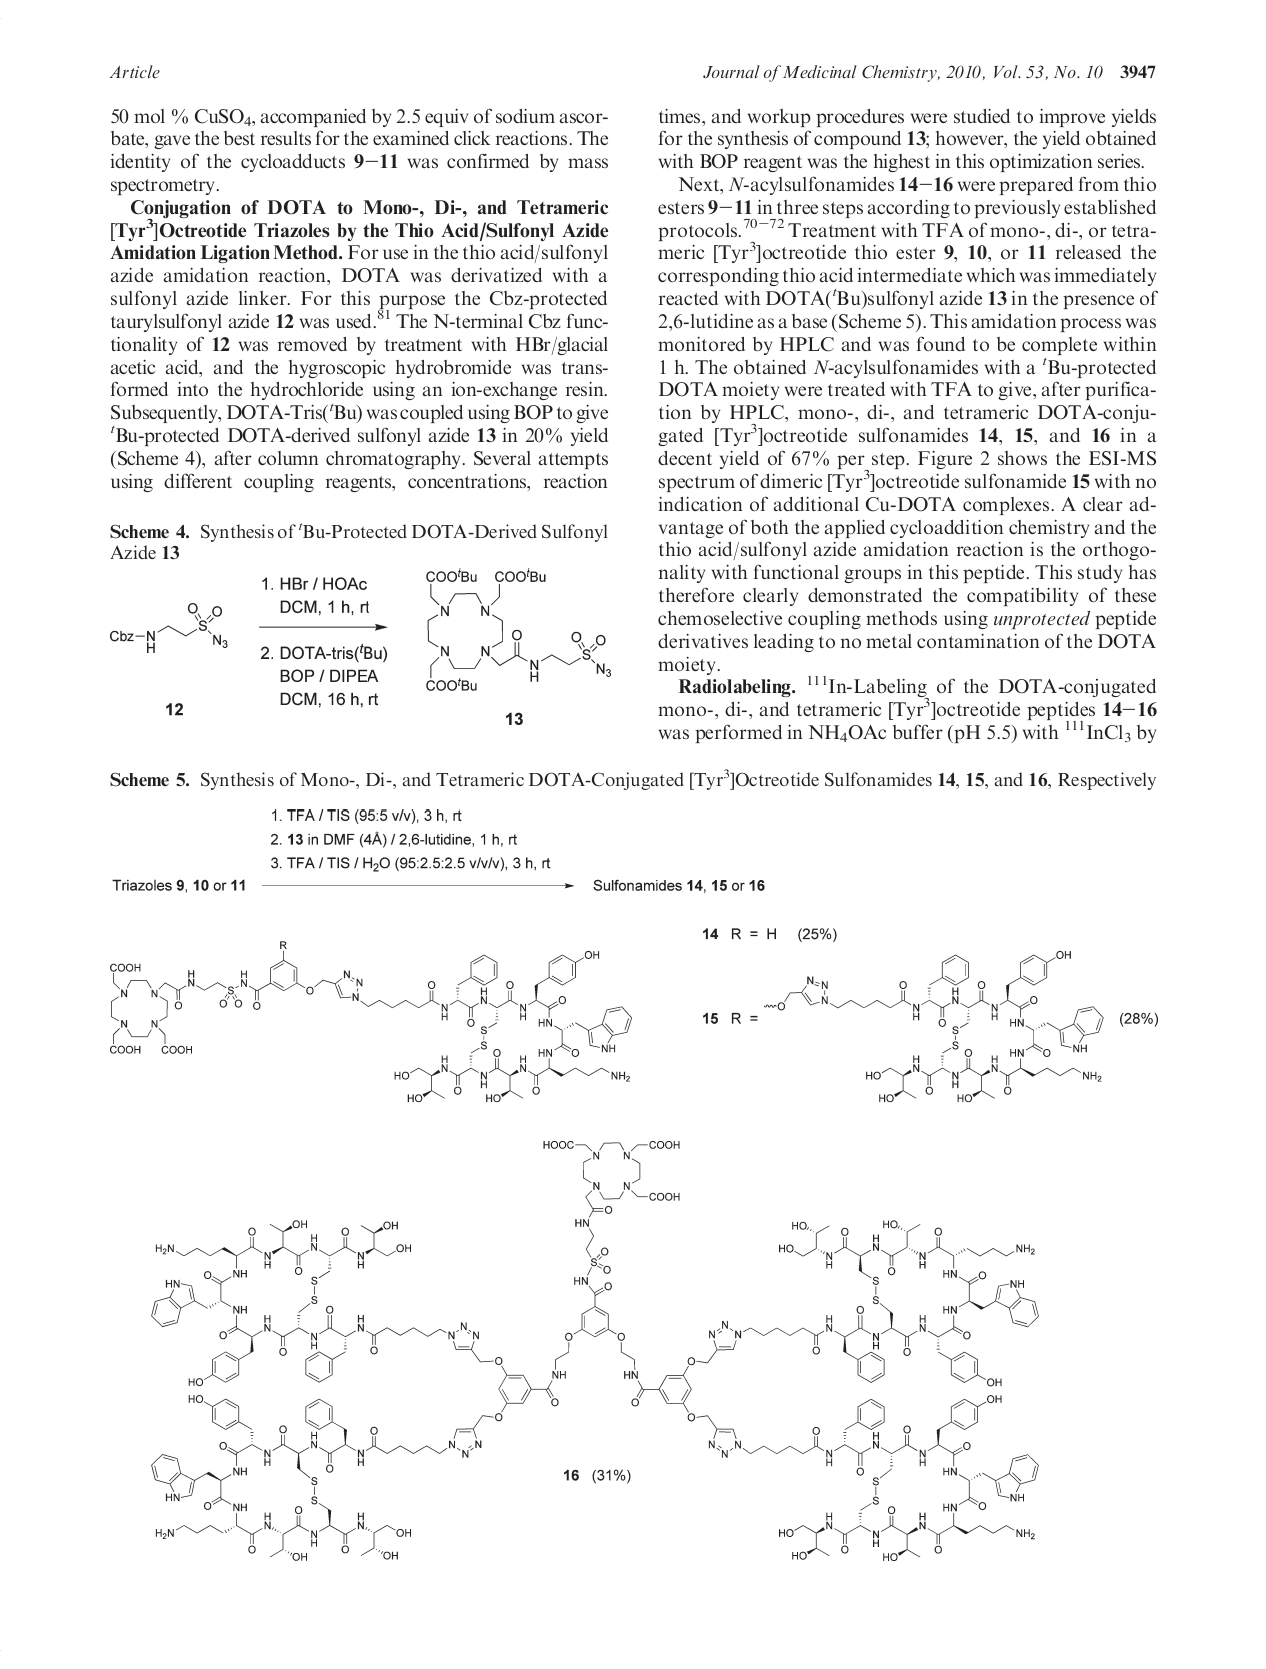exist_molecular: (149, 1138, 1043, 1563), (105, 938, 636, 1105), (763, 943, 1108, 1106), (420, 565, 614, 696), (108, 598, 233, 658)
